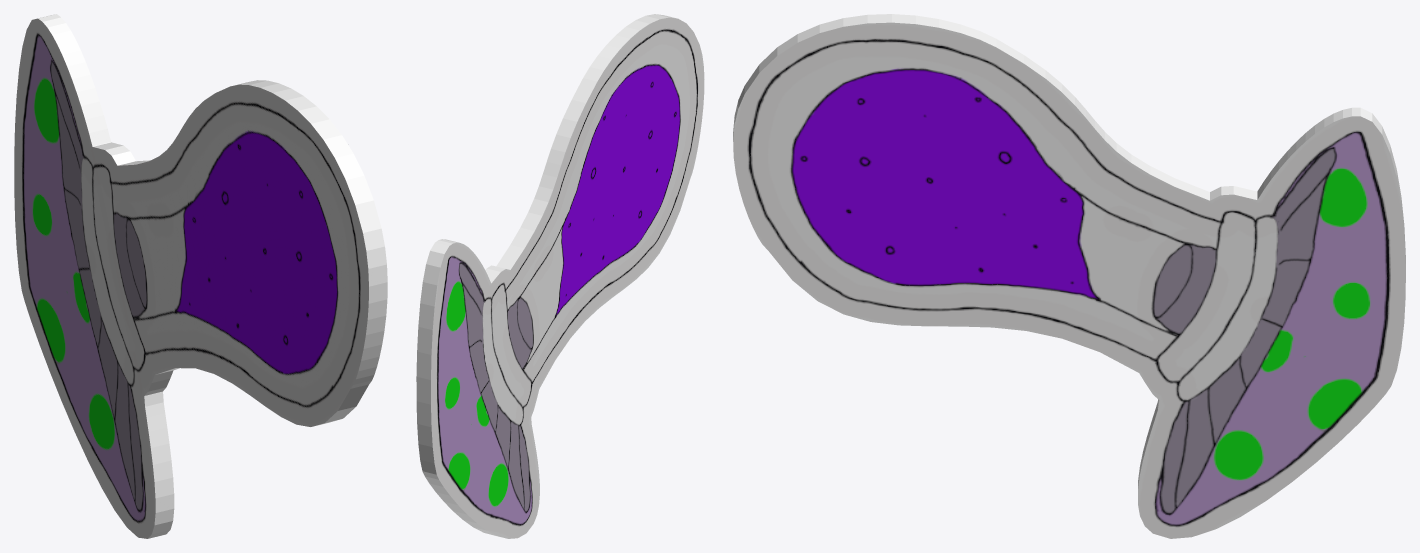
The model's file is Psychedelic Rush new.fbx.
3 renders of one model, left to right at view 1: azimuth 30°, elevation 25°; view 2: azimuth 150°, elevation 25°; view 3: azimuth 270°, elevation 25°, orthographic. The views are drawn at different scales.
Visible parts, largest first — view 1: PR_Mesh new; view 2: PR_Mesh new; view 3: PR_Mesh new.
Boxes of the visible parts, <box> form: PR_Mesh new: <box>14,14,387,538</box>; PR_Mesh new: <box>416,14,704,538</box>; PR_Mesh new: <box>733,14,1405,538</box>.
Bounding box in the file's own units: 0.0129 × 0.4221 × 0.3575.
